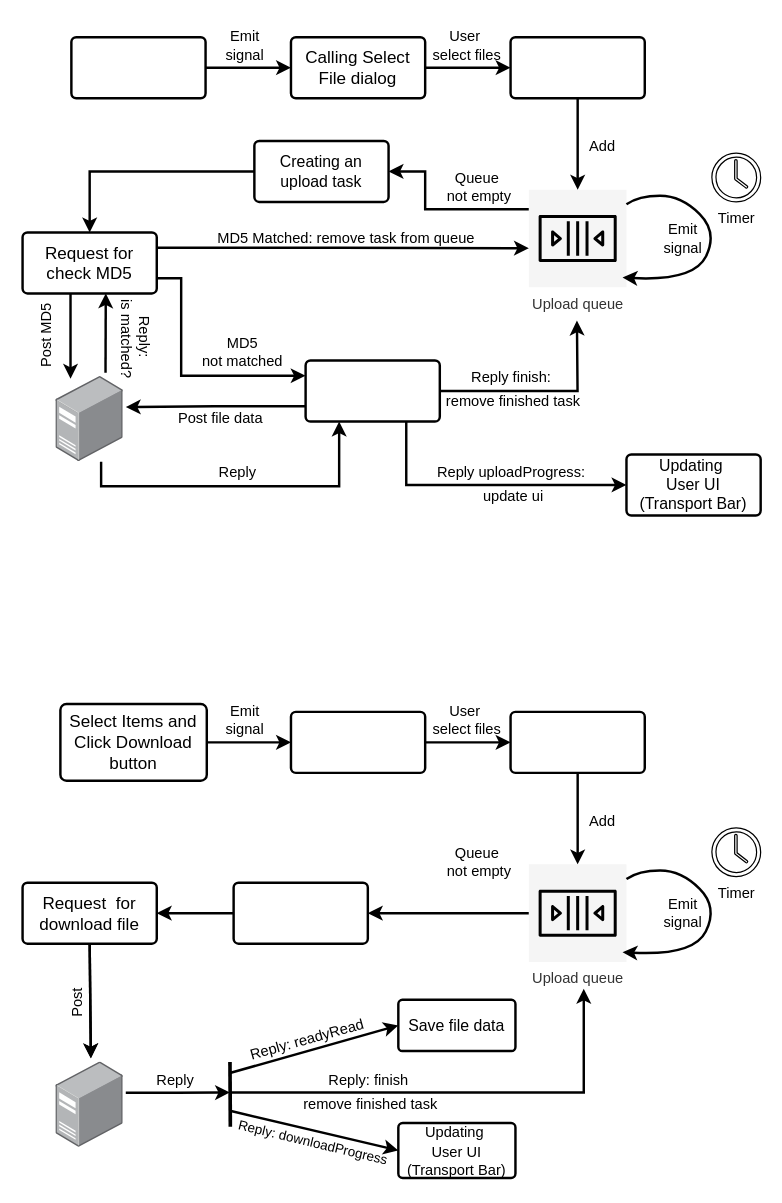
This 782x1203 diagram has some shape labels left out. The shapes that lost their labels are listed below. From the top down, each one's centre as x and y in pixels, then its label:
(x=138, y=67): Click Upload button
(x=577, y=67): Initialization upload items
(x=372, y=390): Request File Data
(x=357, y=741): Calling Save File dialog
(x=577, y=741): Initialization download items
(x=300, y=912): Creating download task
